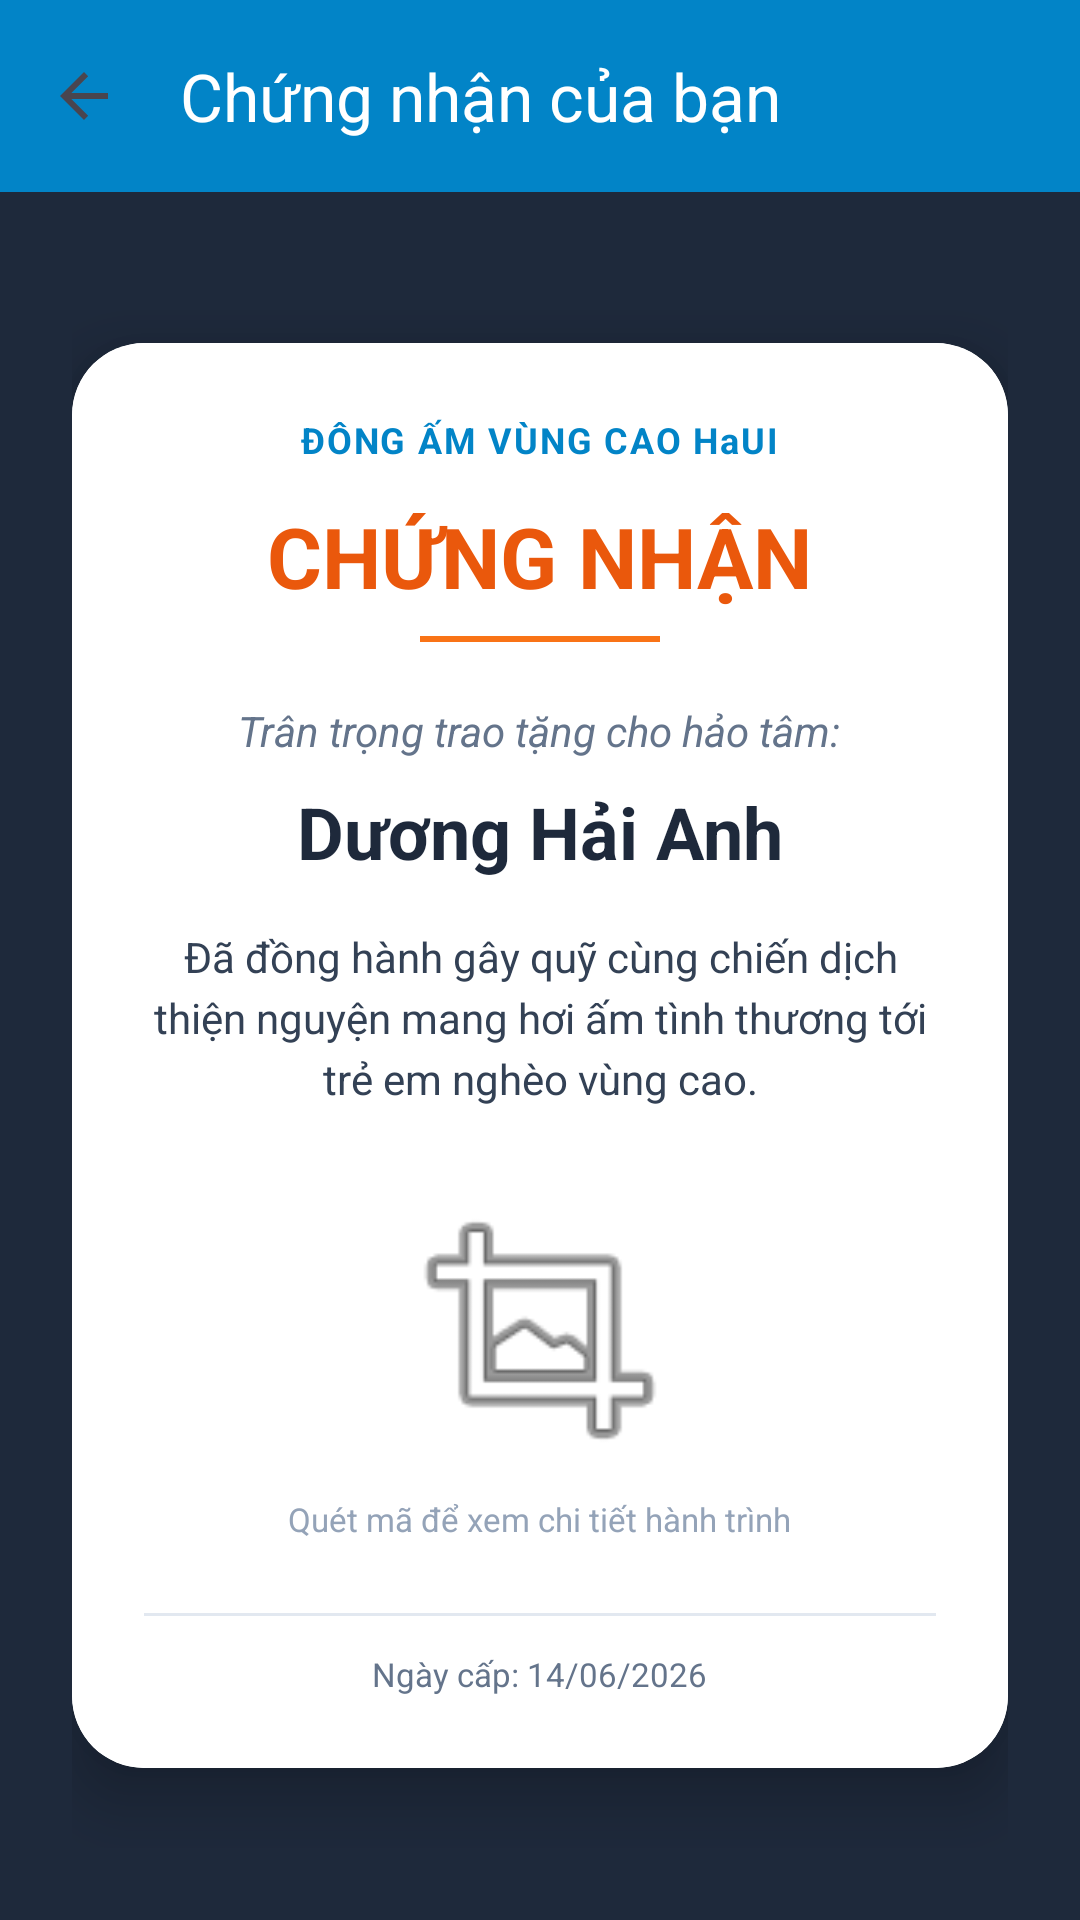

Where icons sit on this 1080px×1920px app screen, as (x1, y1, x2, y2):
crop: (425, 1222, 655, 1439)
